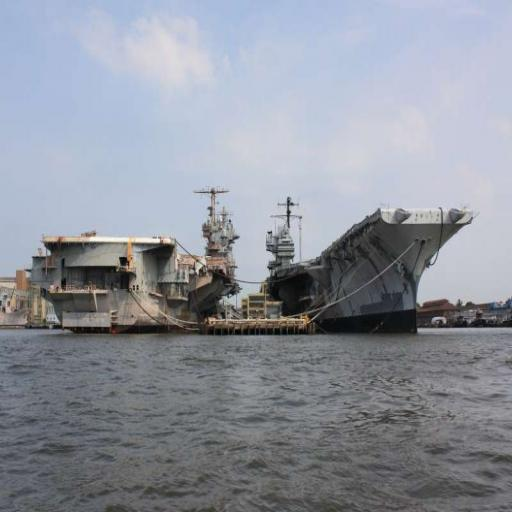Portanaves: (21, 157, 239, 337), (260, 189, 481, 341)
